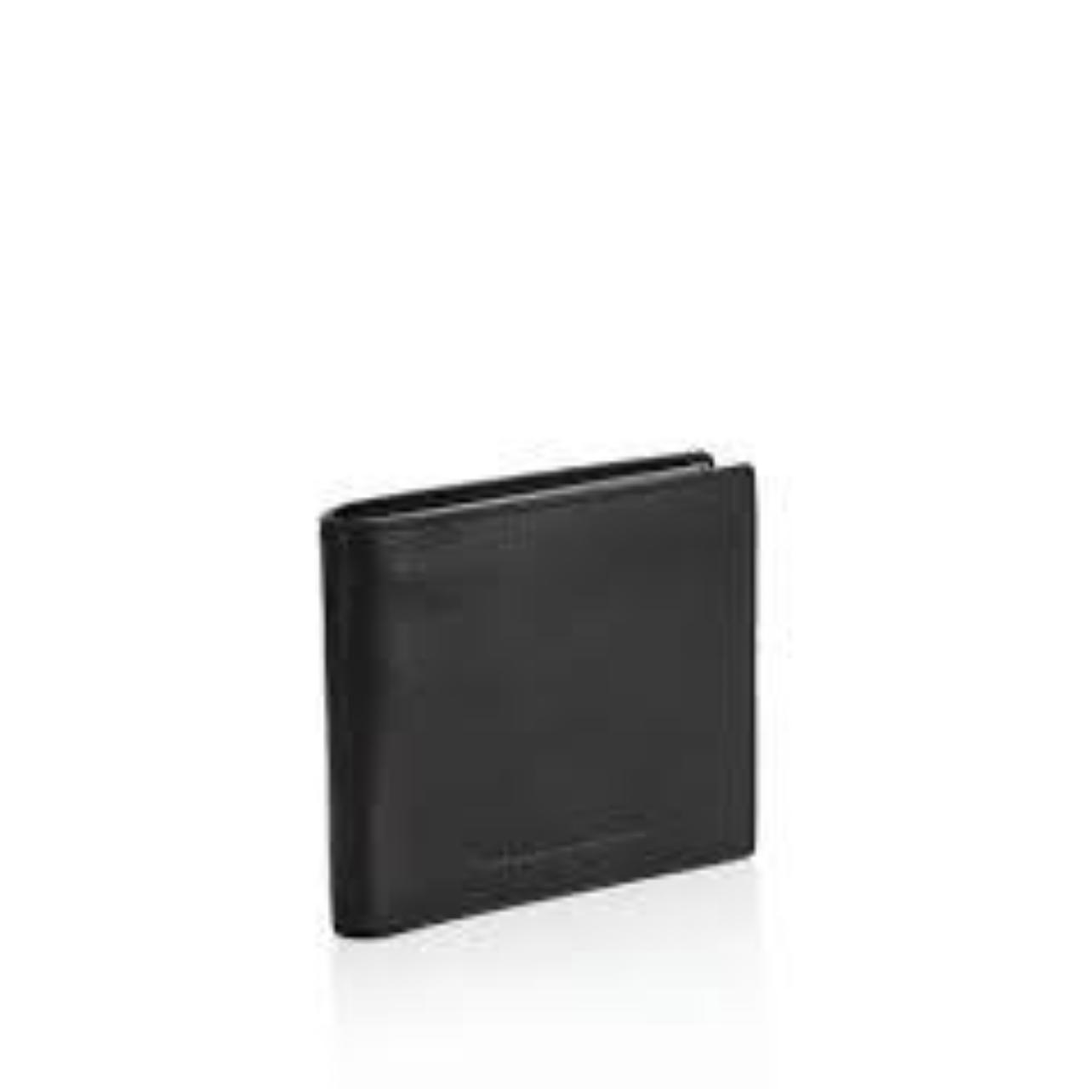wallet: (279, 417, 1029, 1057)
